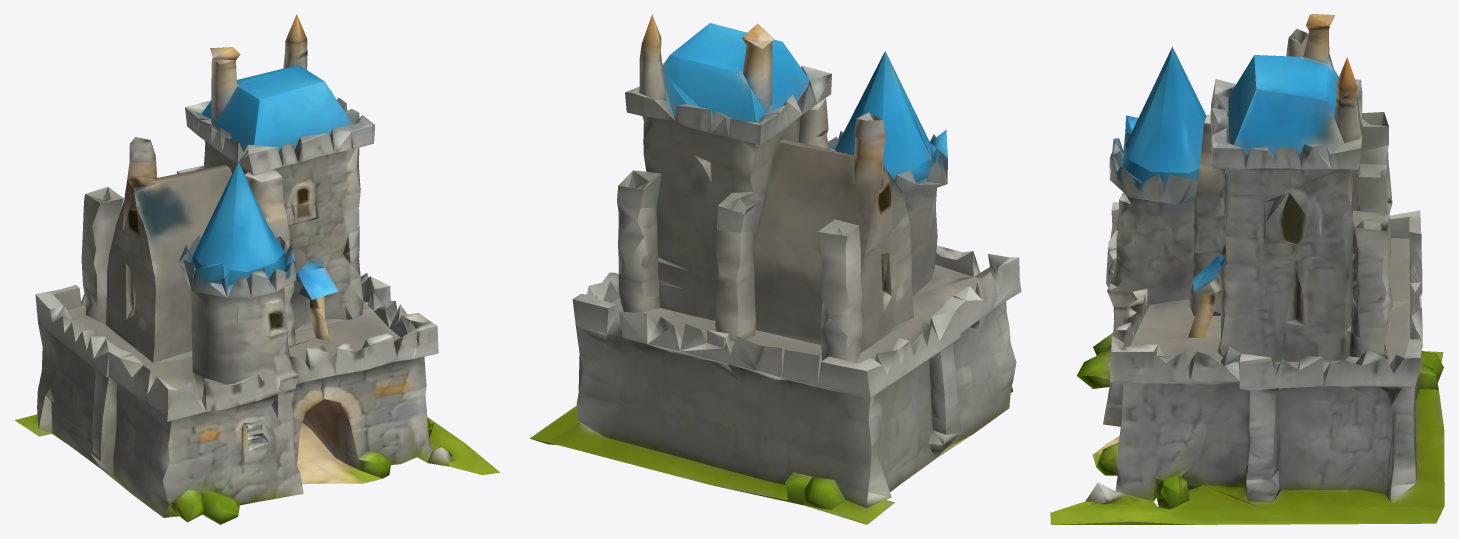
Rendered from stoneTower.glb.
The picture shows the model from 3 angles, left to right: view 1: azimuth 30°, elevation 25°; view 2: azimuth 150°, elevation 25°; view 3: azimuth 270°, elevation 25°; orthographic projection. The views are drawn at different scales.
Visible parts, largest first — view 1: model; view 2: model; view 3: model.
Part boxes in pixels (box(x1,y1,x2,y2)): model: box(14, 14, 499, 524); model: box(530, 14, 1021, 524); model: box(1050, 14, 1444, 524).
Size of the model in its own units: 1.65 by 1.9 by 1.59.
1 material, 1 textured.
